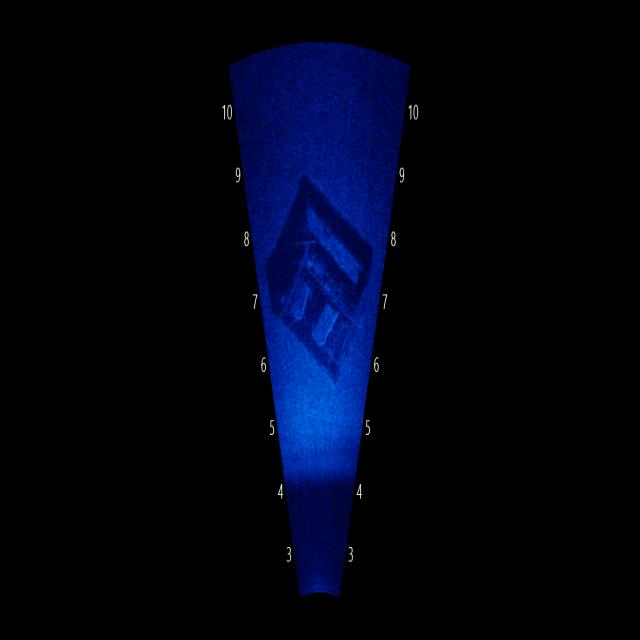square: (259, 167, 377, 387)
